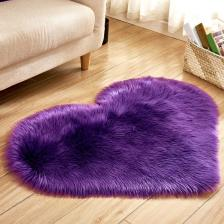purple: (6, 77, 220, 197)
